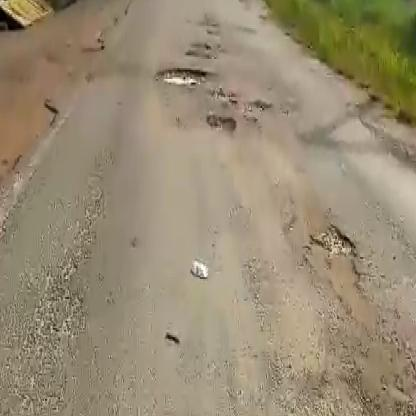pothole: (301, 220, 380, 333), (155, 63, 211, 87), (203, 112, 239, 131)
